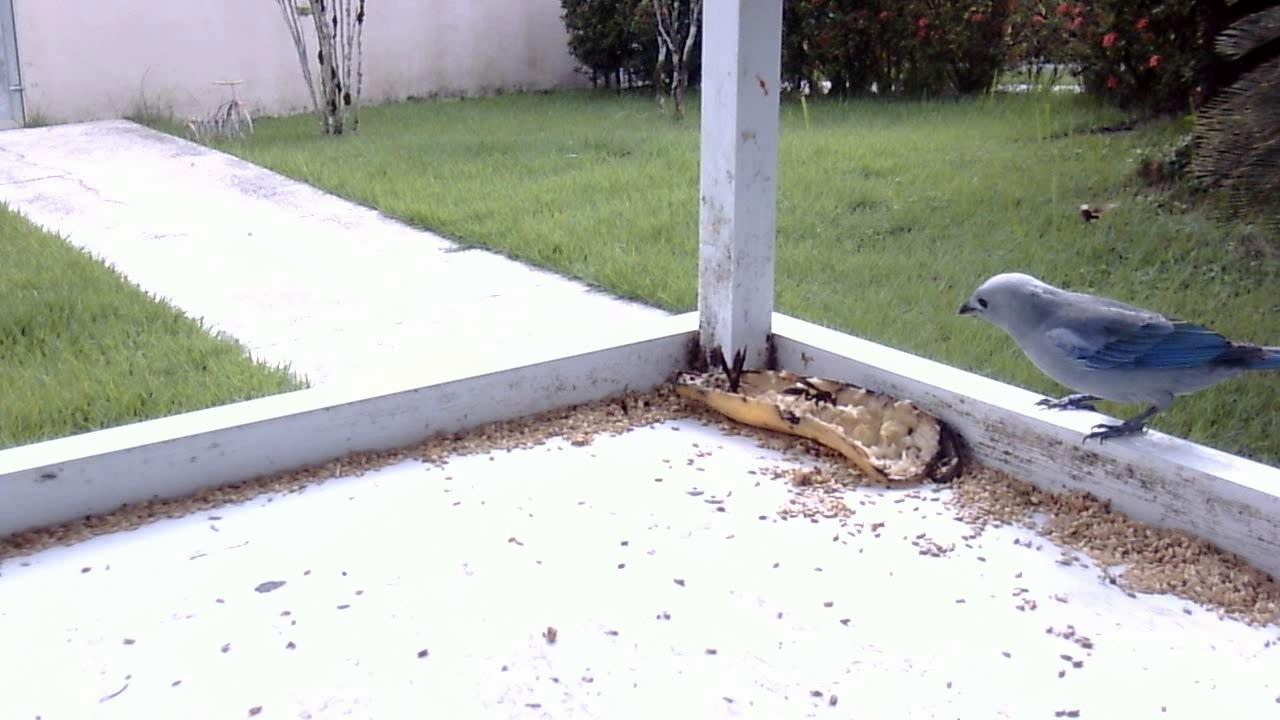sanhaco_da_amazonia: (956, 266, 1280, 458)
